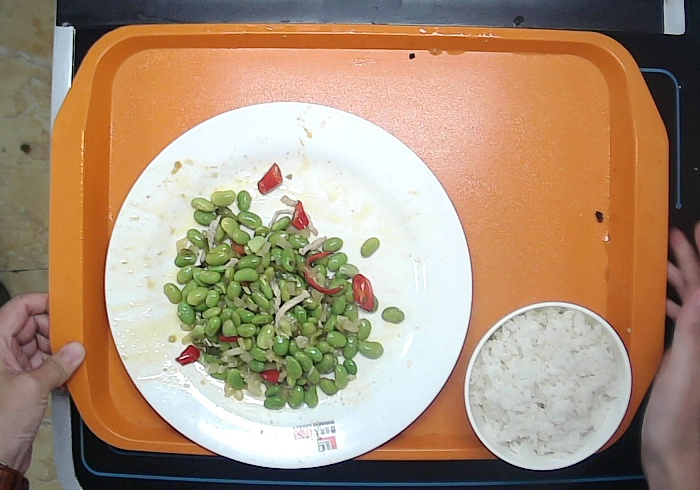ZNLD-Da_Yuan_Pan: (93, 94, 479, 474)
ZNLD-Fan_Wan: (457, 287, 638, 476)
